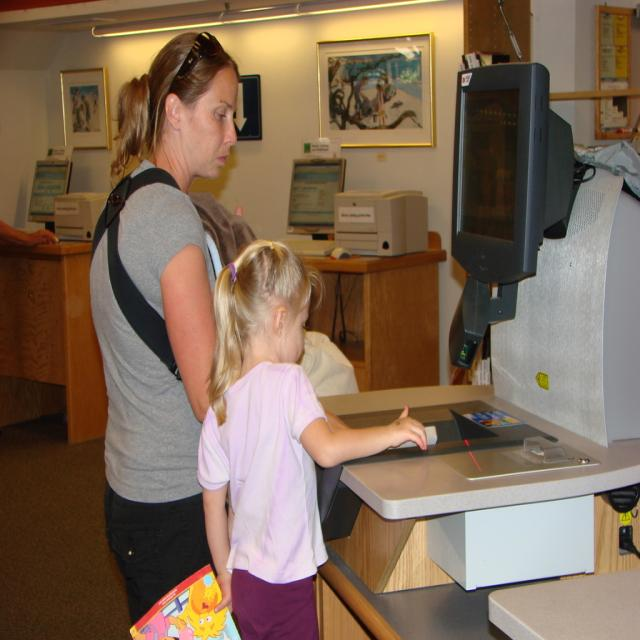printer: (326, 180, 432, 270), (51, 185, 120, 237)
